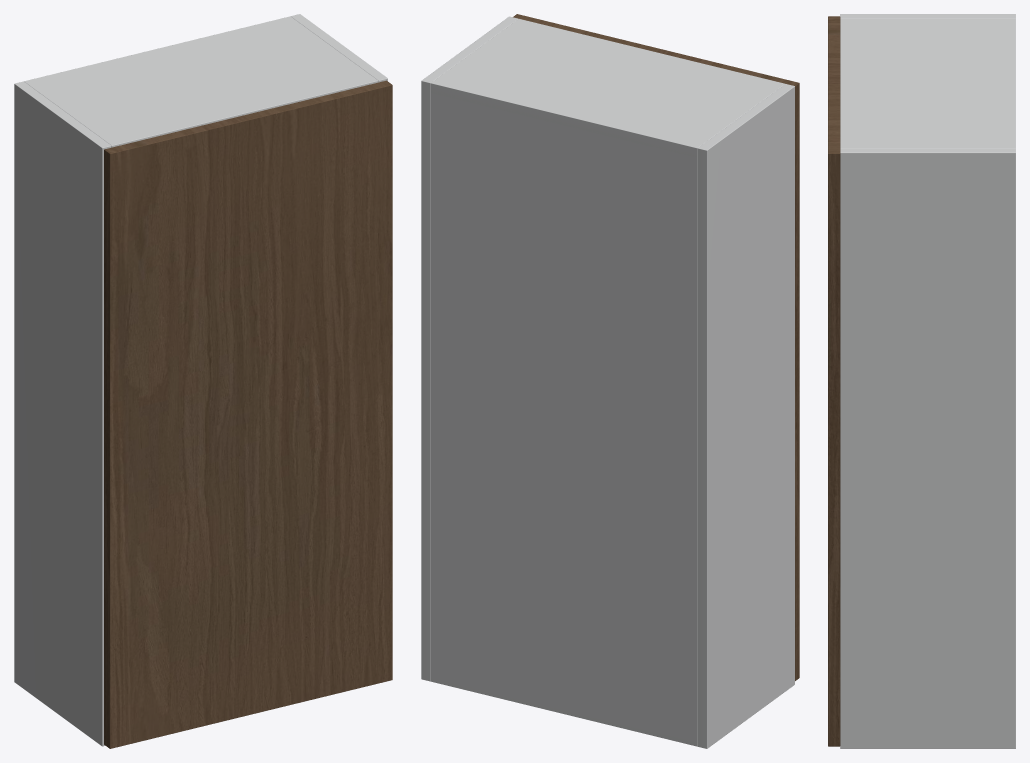
Rendered from oppein-ply-mso-w2142.glb.
The picture shows the model from 3 angles, left to right: view 1: azimuth 30°, elevation 25°; view 2: azimuth 150°, elevation 25°; view 3: azimuth 270°, elevation 25°; orthographic projection.
Parts seen in each view (by area): view 1: Door, Cabinet side, Cabinet top, Cabinet side.001; view 2: Cabinet back, Cabinet side, Cabinet top, Cabinet side.001, Door, Cabinet bottom; view 3: Cabinet side.001, Cabinet top, Door, Cabinet side.
Boxes of the visible parts, x1,y1,x2,y2 form: Door: [104, 80, 392, 748]; Cabinet side: [14, 81, 111, 746]; Cabinet top: [24, 16, 378, 147]; Cabinet side.001: [291, 14, 387, 82]; Cabinet back: [431, 83, 697, 746]; Cabinet side: [697, 84, 794, 748]; Cabinet top: [431, 19, 784, 156]; Cabinet side.001: [421, 16, 518, 681]; Door: [513, 14, 799, 680]; Cabinet bottom: [431, 674, 697, 746]; Cabinet side.001: [840, 148, 1015, 748]; Cabinet top: [840, 18, 1015, 148]; Door: [828, 16, 840, 746]; Cabinet side: [840, 14, 1015, 18].
Size of the model in its own units: 0.5334 by 1.07 by 0.3048.
Materials: 2 (1 with a texture image).
